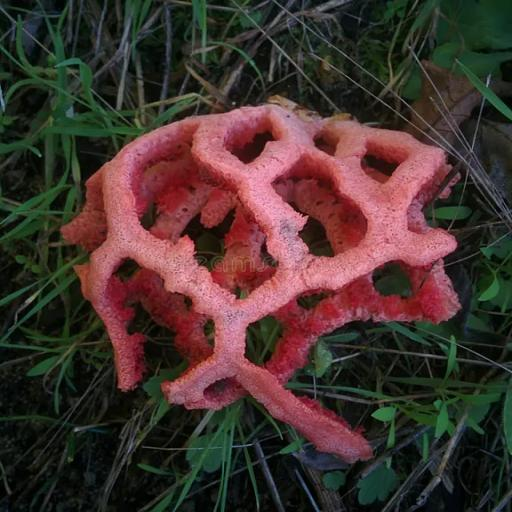Red Cage Fungus: (75, 101, 469, 461)
